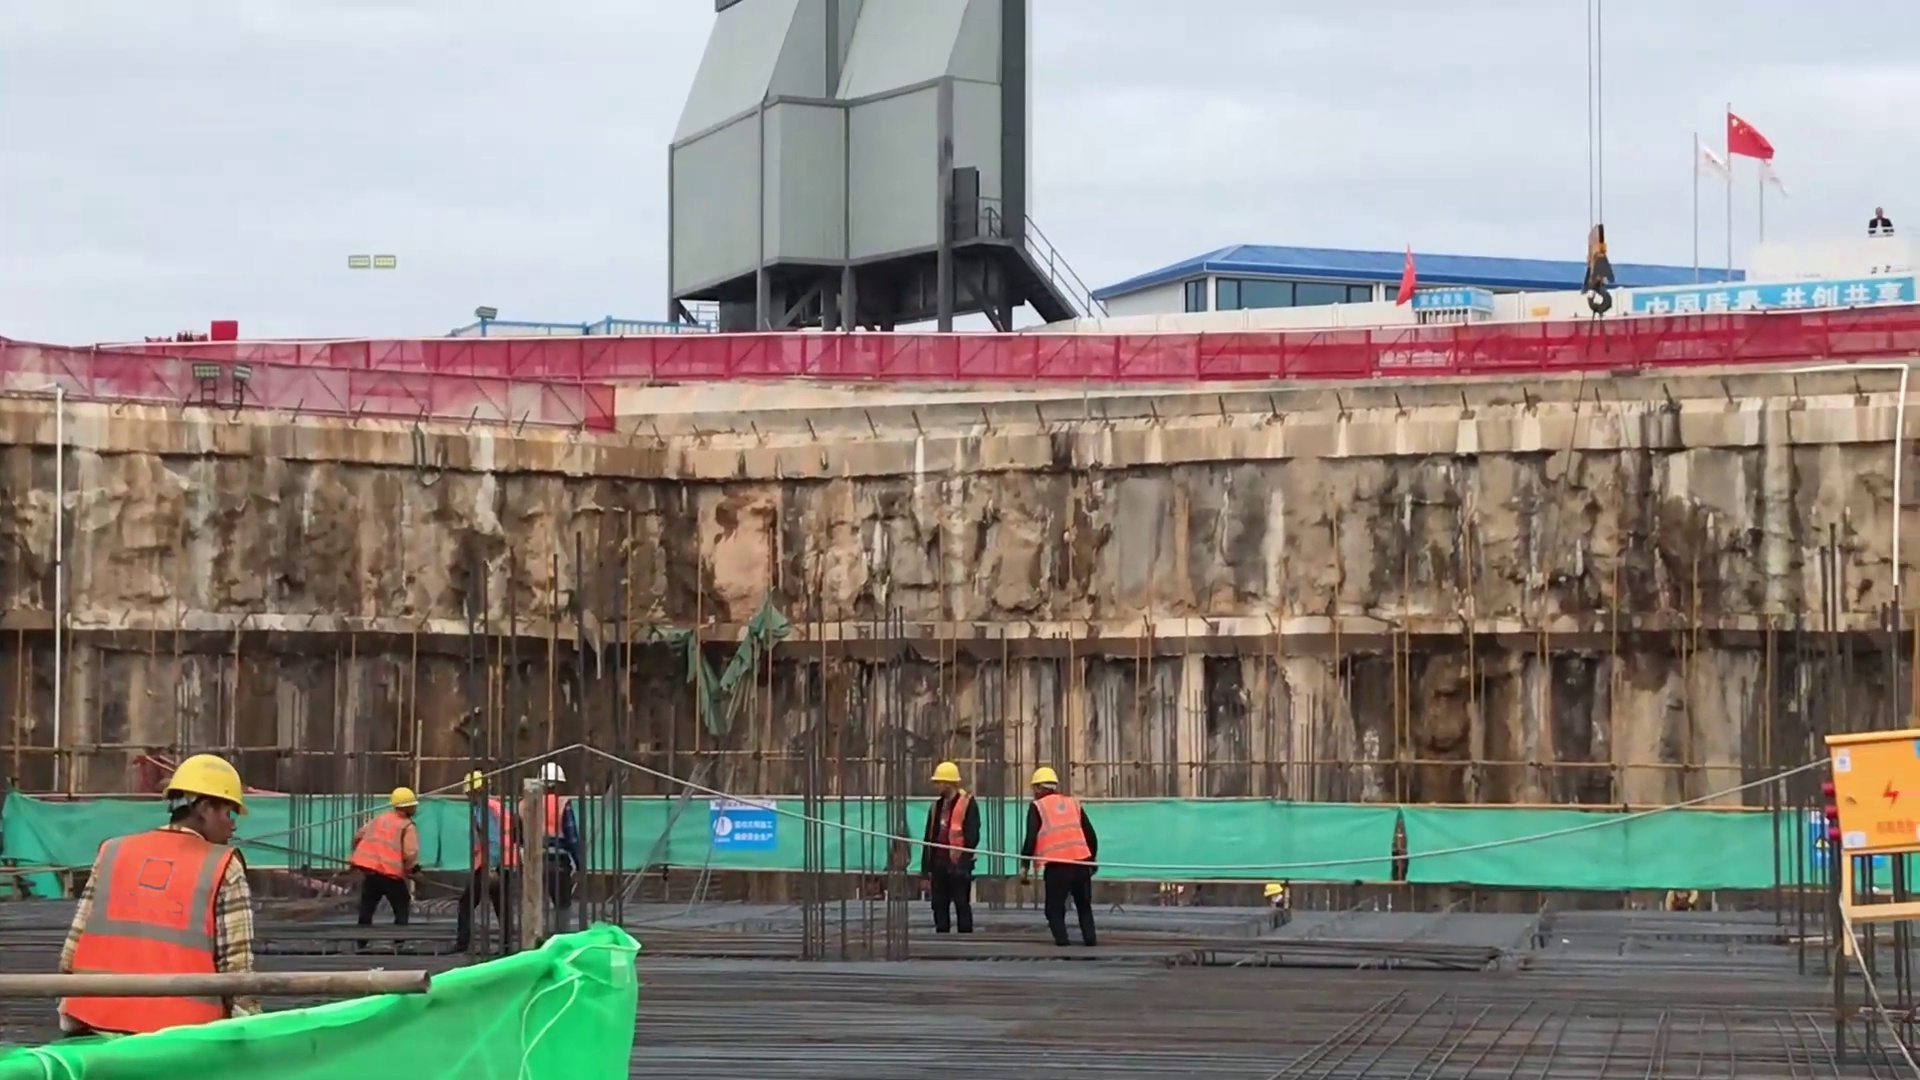helmet: (155, 746, 255, 806), (1020, 768, 1069, 803), (371, 789, 424, 819), (923, 756, 966, 791), (461, 772, 498, 801), (538, 758, 570, 791), (1257, 875, 1287, 899)
person: (52, 749, 261, 1041), (1006, 756, 1101, 953), (343, 783, 424, 957), (459, 764, 521, 951), (921, 761, 979, 947), (542, 758, 586, 933), (1866, 203, 1896, 234)
vest: (58, 820, 269, 1056), (1019, 791, 1095, 874), (353, 811, 425, 891), (920, 792, 977, 867)
